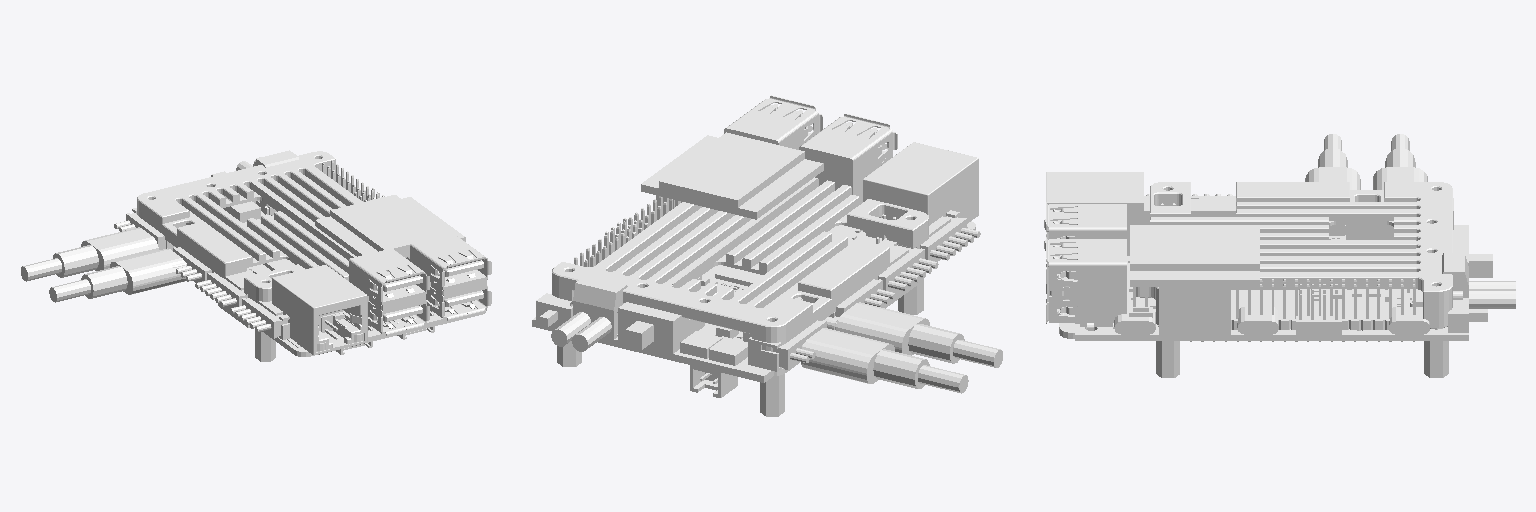
The robot description file, URDF, robot "V550_mec_robot":
<?xml version="1.0" encoding="utf-8"?>
<!-- This URDF was automatically created by SolidWorks to URDF Exporter! Originally created by [author] ([email redacted]) 
     Commit Version: 1.6.0-4-g7f85cfe  Build Version: 1.6.7995.38578
     For more information, please see http://wiki.ros.org/sw_urdf_exporter -->
<robot
  name="V550_mec_robot">
  <link
    name="base_link">
    <inertial>
      <origin
        xyz="-0.00658271210809724 0.000569960640804681 0.0414948422314003"
        rpy="0 0 0" />
      <mass
        value="0.486844981490714" />
      <inertia
        ixx="0.000728879704405369"
        ixy="-1.95581978182495E-06"
        ixz="1.38866314723912E-05"
        iyy="0.00137349892998219"
        iyz="1.27363604508813E-06"
        izz="0.00198018890840461" />
    </inertial>
    <visual>
      <origin
        xyz="0 0 0"
        rpy="0 0 0" />
      <geometry>
        <mesh
          filename="package://wheeltec_robot_urdf/meshes/V550_mec_robot_meshes/base_link.STL" />
      </geometry>
      <material
        name="">
        <color
          rgba="0.349019607843137 0.349019607843137 0.349019607843137 1" />
      </material>
    </visual>
    <collision>
      <origin
        xyz="0 0 0"
        rpy="0 0 0" />
      <geometry>
        <mesh
          filename="package://wheeltec_robot_urdf/meshes/V550_mec_robot_meshes/base_link.STL" />
      </geometry>
    </collision>
  </link>
  <link
    name="lf_wheel_link">
    <inertial>
      <origin
        xyz="-7.70853984810582E-10 -0.00391716682736307 -1.4561503738908E-10"
        rpy="0 0 0" />
      <mass
        value="0.0575555911293518" />
      <inertia
        ixx="2.10755821421772E-05"
        ixy="-2.16920667058315E-13"
        ixz="-1.66749355467763E-13"
        iyy="3.40216676430615E-05"
        iyz="-3.16177321306463E-14"
        izz="2.10755819831363E-05" />
    </inertial>
    <visual>
      <origin
        xyz="0 0 0"
        rpy="0 0 0" />
      <geometry>
        <mesh
          filename="package://wheeltec_robot_urdf/meshes/V550_mec_robot_meshes/lf_wheel_link.STL" />
      </geometry>
      <material
        name="">
        <color
          rgba="0.376470588235294 0.376470588235294 0.376470588235294 1" />
      </material>
    </visual>
    <collision>
      <origin
        xyz="0 0 0"
        rpy="0 0 0" />
      <geometry>
        <mesh
          filename="package://wheeltec_robot_urdf/meshes/V550_mec_robot_meshes/lf_wheel_link.STL" />
      </geometry>
    </collision>
  </link>
  <joint
    name="lf_wheel_joint"
    type="continuous">
    <origin
      xyz="0.0759419119540792 0.0983014469516561 0.0167"
      rpy="0 0 0" />
    <parent
      link="base_link" />
    <child
      link="lf_wheel_link" />
    <axis
      xyz="0 -1 0" />
  </joint>
  <link
    name="lb_wheel_link">
    <inertial>
      <origin
        xyz="8.27298508865315E-09 -0.00391801534011008 2.33900100711504E-08"
        rpy="0 0 0" />
      <mass
        value="0.0575546594328681" />
      <inertia
        ixx="2.10751269181675E-05"
        ixy="-1.20264905096543E-12"
        ixz="-7.94357439958831E-12"
        iyy="3.40209427021929E-05"
        iyz="5.32083294576981E-12"
        izz="2.10751450994036E-05" />
    </inertial>
    <visual>
      <origin
        xyz="0 0 0"
        rpy="0 0 0" />
      <geometry>
        <mesh
          filename="package://wheeltec_robot_urdf/meshes/V550_mec_robot_meshes/lb_wheel_link.STL" />
      </geometry>
      <material
        name="">
        <color
          rgba="0.376470588235294 0.376470588235294 0.376470588235294 1" />
      </material>
    </visual>
    <collision>
      <origin
        xyz="0 0 0"
        rpy="0 0 0" />
      <geometry>
        <mesh
          filename="package://wheeltec_robot_urdf/meshes/V550_mec_robot_meshes/lb_wheel_link.STL" />
      </geometry>
    </collision>
  </link>
  <joint
    name="lb_wheel_joint"
    type="continuous">
    <origin
      xyz="-0.0816580880459208 0.0983054469516561 0.0167"
      rpy="0 0 0" />
    <parent
      link="base_link" />
    <child
      link="lb_wheel_link" />
    <axis
      xyz="0 1 0" />
  </joint>
  <link
    name="rb_wheel_link">
    <inertial>
      <origin
        xyz="7.24978507782303E-10 0.00391716682736308 2.99709913137436E-10"
        rpy="0 0 0" />
      <mass
        value="0.0575555911293519" />
      <inertia
        ixx="2.10755819418964E-05"
        ixy="-1.98892413173438E-13"
        ixz="1.39806284049536E-13"
        iyy="3.40216676430614E-05"
        iyz="-9.21741113361527E-14"
        izz="2.10755821834171E-05" />
    </inertial>
    <visual>
      <origin
        xyz="0 0 0"
        rpy="0 0 0" />
      <geometry>
        <mesh
          filename="package://wheeltec_robot_urdf/meshes/V550_mec_robot_meshes/rb_wheel_link.STL" />
      </geometry>
      <material
        name="">
        <color
          rgba="0.376470588235294 0.376470588235294 0.376470588235294 1" />
      </material>
    </visual>
    <collision>
      <origin
        xyz="0 0 0"
        rpy="0 0 0" />
      <geometry>
        <mesh
          filename="package://wheeltec_robot_urdf/meshes/V550_mec_robot_meshes/rb_wheel_link.STL" />
      </geometry>
    </collision>
  </link>
  <joint
    name="rb_wheel_joint"
    type="continuous">
    <origin
      xyz="-0.0816580880459208 -0.0982745530483439 0.0167"
      rpy="0 0 0" />
    <parent
      link="base_link" />
    <child
      link="rb_wheel_link" />
    <axis
      xyz="0 1 0" />
  </joint>
  <link
    name="rf_wheel_link">
    <inertial>
      <origin
        xyz="-2.03118767638788E-08 0.00391801536357496 1.47898364041832E-08"
        rpy="0 0 0" />
      <mass
        value="0.0575546595056713" />
      <inertia
        ixx="2.10751249334216E-05"
        ixy="1.27911217452893E-12"
        ixz="-5.19497190132298E-12"
        iyy="3.40209423643432E-05"
        iyz="-5.39837364479759E-12"
        izz="2.1075146790306E-05" />
    </inertial>
    <visual>
      <origin
        xyz="0 0 0"
        rpy="0 0 0" />
      <geometry>
        <mesh
          filename="package://wheeltec_robot_urdf/meshes/V550_mec_robot_meshes/rf_wheel_link.STL" />
      </geometry>
      <material
        name="">
        <color
          rgba="0.376470588235294 0.376470588235294 0.376470588235294 1" />
      </material>
    </visual>
    <collision>
      <origin
        xyz="0 0 0"
        rpy="0 0 0" />
      <geometry>
        <mesh
          filename="package://wheeltec_robot_urdf/meshes/V550_mec_robot_meshes/rf_wheel_link.STL" />
      </geometry>
    </collision>
  </link>
  <joint
    name="rf_wheel_joint"
    type="continuous">
    <origin
      xyz="0.0759419119540792 -0.0982785530483439 0.0167"
      rpy="0 0 0" />
    <parent
      link="base_link" />
    <child
      link="rf_wheel_link" />
    <axis
      xyz="0 -1 0" />
  </joint>
  <link
    name="camera_link">
    <inertial>
      <origin
        xyz="-4.45004837215657E-08 -3.25846249904076E-07 -0.0139995077279642"
        rpy="0 0 0" />
      <mass
        value="0.0285970249307156" />
      <inertia
        ixx="2.49063659552752E-05"
        ixy="1.41446622396731E-09"
        ixz="-3.44746104888009E-07"
        iyy="8.10339394659798E-06"
        iyz="8.7411817335606E-09"
        izz="1.91138588188251E-05" />
    </inertial>
    <visual>
      <origin
        xyz="0 0 0"
        rpy="0 0 0" />
      <geometry>
        <mesh
          filename="package://wheeltec_robot_urdf/meshes/V550_mec_robot_meshes/camera_link.STL" />
      </geometry>
      <material
        name="">
        <color
          rgba="1 1 1 1" />
      </material>
    </visual>
    <collision>
      <origin
        xyz="0 0 0"
        rpy="0 0 0" />
      <geometry>
        <mesh
          filename="package://wheeltec_robot_urdf/meshes/V550_mec_robot_meshes/camera_link.STL" />
      </geometry>
    </collision>
  </link>
  <joint
    name="camera_joint"
    type="fixed">
    <origin
      xyz="0.00160091195407919 -0.00010055304834393 0.152137"
      rpy="0 0 0" />
    <parent
      link="base_link" />
    <child
      link="camera_link" />
    <axis
      xyz="0 0 0" />
  </joint>
  <link
    name="laser">
    <inertial>
      <origin
        xyz="0.000735465990626988 2.79287293896135E-07 -0.00549379656778799"
        rpy="0 0 0" />
      <mass
        value="0.000111381912632097" />
      <inertia
        ixx="8.09810255937586E-10"
        ixy="2.48436925682356E-14"
        ixz="-2.38955091202816E-14"
        iyy="8.09668177063905E-10"
        iyz="-2.28917457095815E-15"
        izz="1.17057115150887E-10" />
    </inertial>
    <visual>
      <origin
        xyz="0 0 0"
        rpy="0 0 0" />
      <geometry>
        <mesh
          filename="package://wheeltec_robot_urdf/meshes/V550_mec_robot_meshes/laser.STL" />
      </geometry>
      <material
        name="">
        <color
          rgba="0.376470588235294 0.376470588235294 0.376470588235294 1" />
      </material>
    </visual>
    <collision>
      <origin
        xyz="0 0 0"
        rpy="0 0 0" />
      <geometry>
        <mesh
          filename="package://wheeltec_robot_urdf/meshes/V550_mec_robot_meshes/laser.STL" />
      </geometry>
    </collision>
  </link>
  <joint
    name="laser_joint"
    type="fixed">
    <origin
      xyz="0.0834767944381037 1.32296970929568E-05 0.09655"
      rpy="0 0 -3.14159265358979" />
    <parent
      link="base_link" />
    <child
      link="laser" />
    <axis
      xyz="0 0 0" />
  </joint>
  <link
    name="controller_link">
    <inertial>
      <origin
        xyz="-0.0254318317483443 0.0178325189887231 0.0120915107345509"
        rpy="0 0 0" />
      <mass
        value="0.0371650711916722" />
      <inertia
        ixx="2.75273128086897E-05"
        ixy="-4.90416948087793E-07"
        ixz="-8.95619686706703E-08"
        iyy="1.08853888864562E-05"
        iyz="3.79055088929114E-07"
        izz="3.7257082402319E-05" />
    </inertial>
    <visual>
      <origin
        xyz="0 0 0"
        rpy="0 0 0" />
      <geometry>
        <mesh
          filename="package://wheeltec_robot_urdf/meshes/V550_mec_robot_meshes/controller_link.STL" />
      </geometry>
      <material
        name="">
        <color
          rgba="1 1 1 1" />
      </material>
    </visual>
    <collision>
      <origin
        xyz="0 0 0"
        rpy="0 0 0" />
      <geometry>
        <mesh
          filename="package://wheeltec_robot_urdf/meshes/V550_mec_robot_meshes/controller_link.STL" />
      </geometry>
    </collision>
  </link>
  <joint
    name="controller_joint"
    type="fixed">
    <origin
      xyz="-0.0539080491826598 -0.011432266551253 0.1135"
      rpy="0 0 0" />
    <parent
      link="base_link" />
    <child
      link="controller_link" />
    <axis
      xyz="0 0 0" />
  </joint>
</robot>

--- What the picture shows (computed from the rendered views, not written in the file) ---
The picture shows the robot from 3 angles, left to right: view 1: azimuth 30°, elevation 25°; view 2: azimuth 150°, elevation 25°; view 3: azimuth 270°, elevation 25°; orthographic projection.
Robot: V550_mec_robot — 8 links, 7 joints (4 continuous, 3 fixed); root link base_link; default pose: every joint at zero.
Links seen in each view (by area): view 1: controller_link; view 2: controller_link; view 3: controller_link.
Link boxes in pixels (x1=…): controller_link: x1=21, y1=150, x2=491, y2=361; controller_link: x1=532, y1=95, x2=1002, y2=416; controller_link: x1=1044, y1=134, x2=1515, y2=377.
Size in the robot's own frame: 0.0957 by 0.1018 by 0.0276 metres.
Meshes: 8 distinct files referenced, 1 mesh visuals loaded (1 binary STL); not drawn: 7 (reference not matched to a file when rendering).